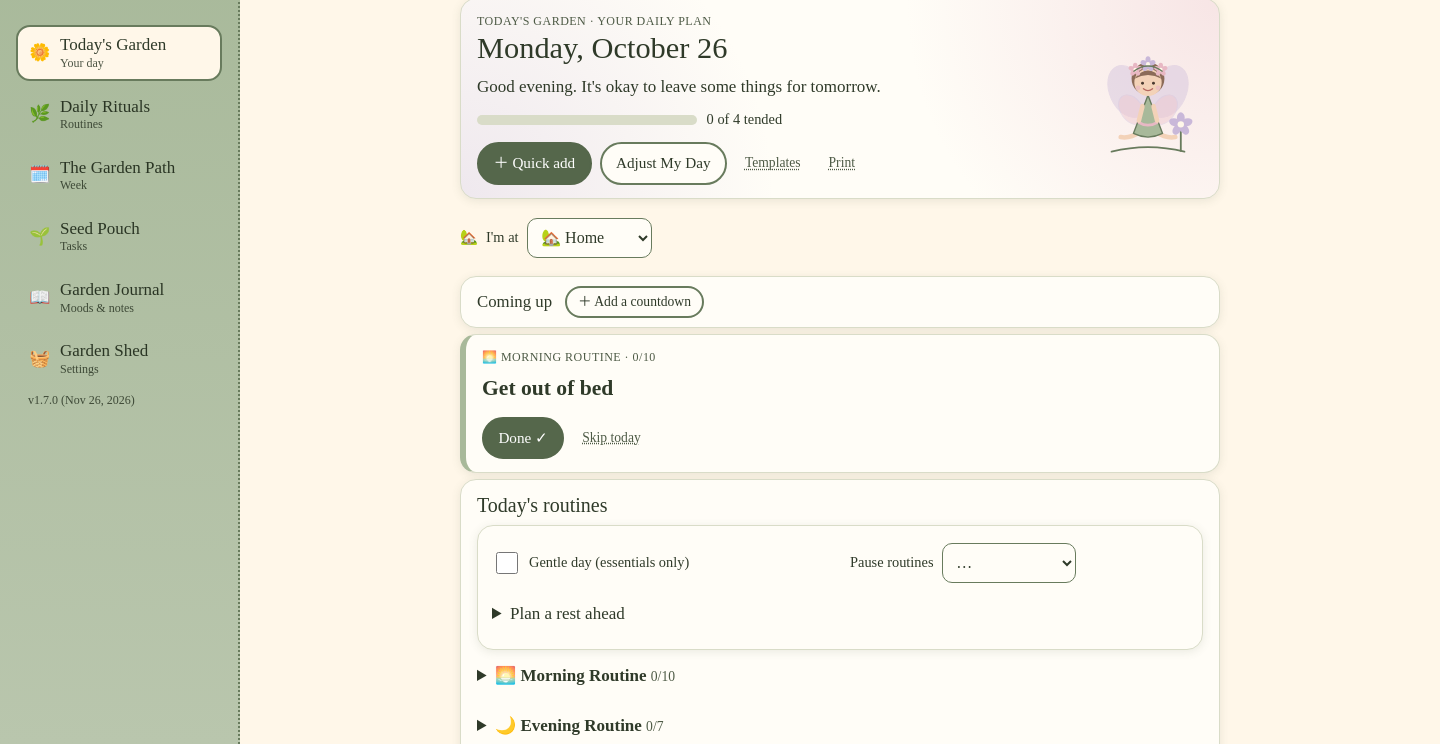
it: screens › saves a journal note for a day
The image size is (1440, 744).
Click the button "📖 Garden Journal Moods & notes".
click(119, 298)  # box [16,269,222,326]
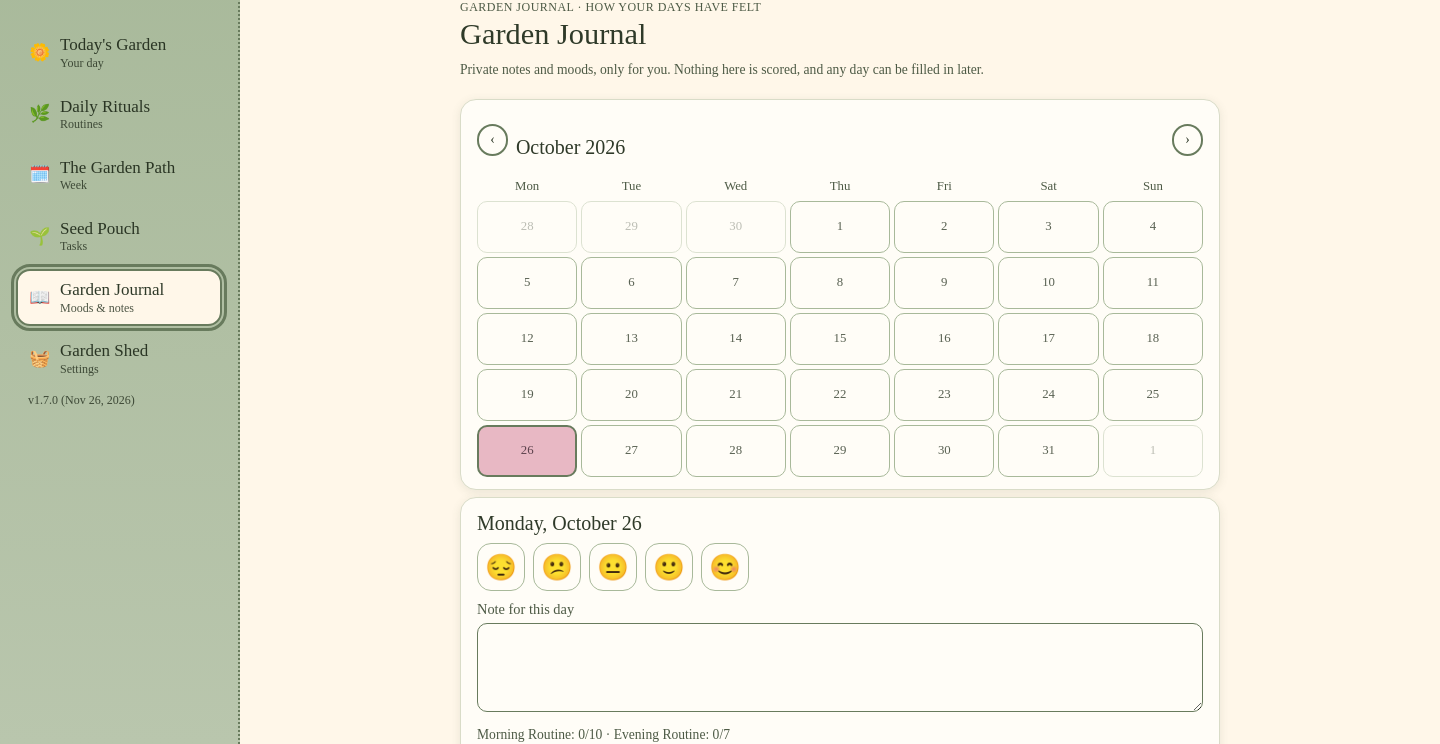
Type "Quiet and slow" into the text box labelled "Note for this day".
click(840, 668); type("Quiet and slow")  # box [477,623,1203,712]
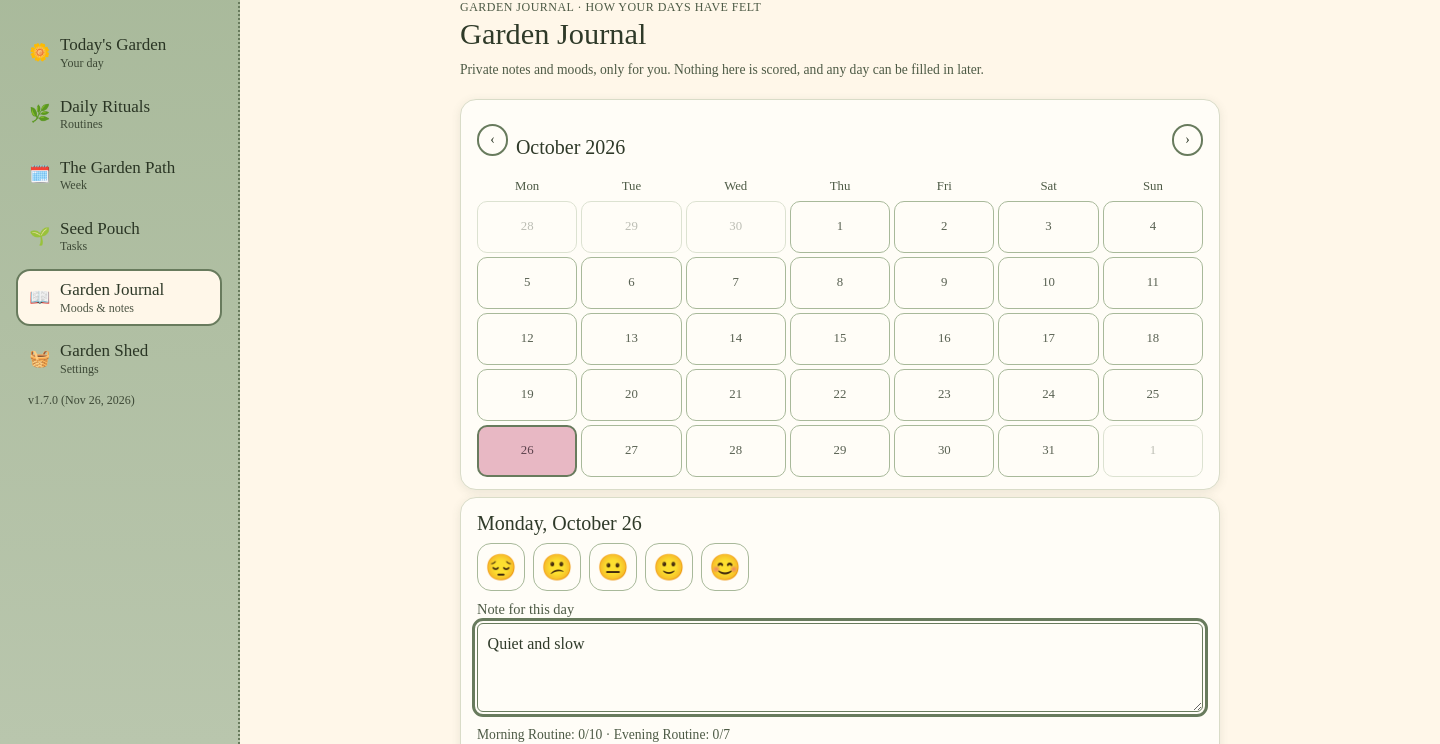
Press Tab
(page scrolled)
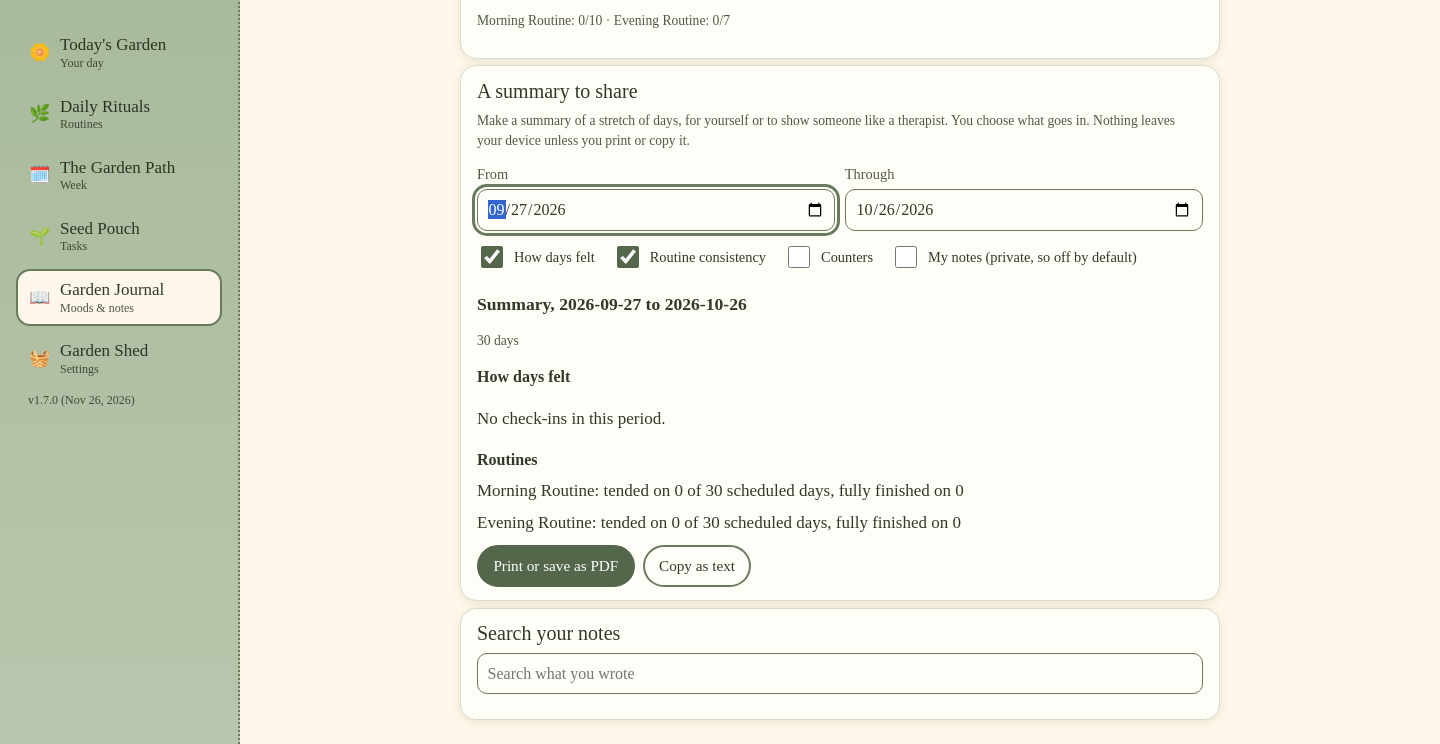
Type "quiet" into the search field named "Search notes".
click(840, 674); type("quiet")  # box [477,653,1203,694]
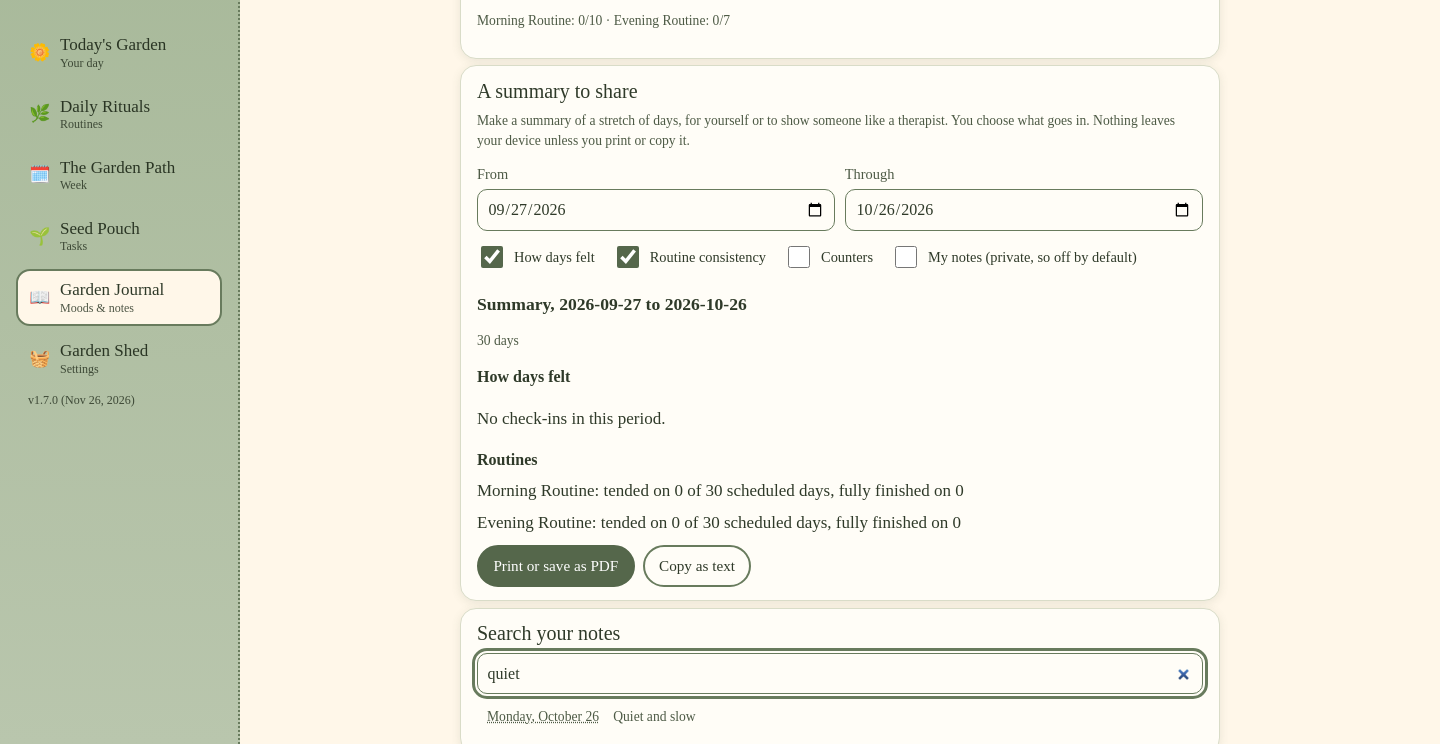
Result: the text "Quiet and slow" is shown at [613,709,696,724]
